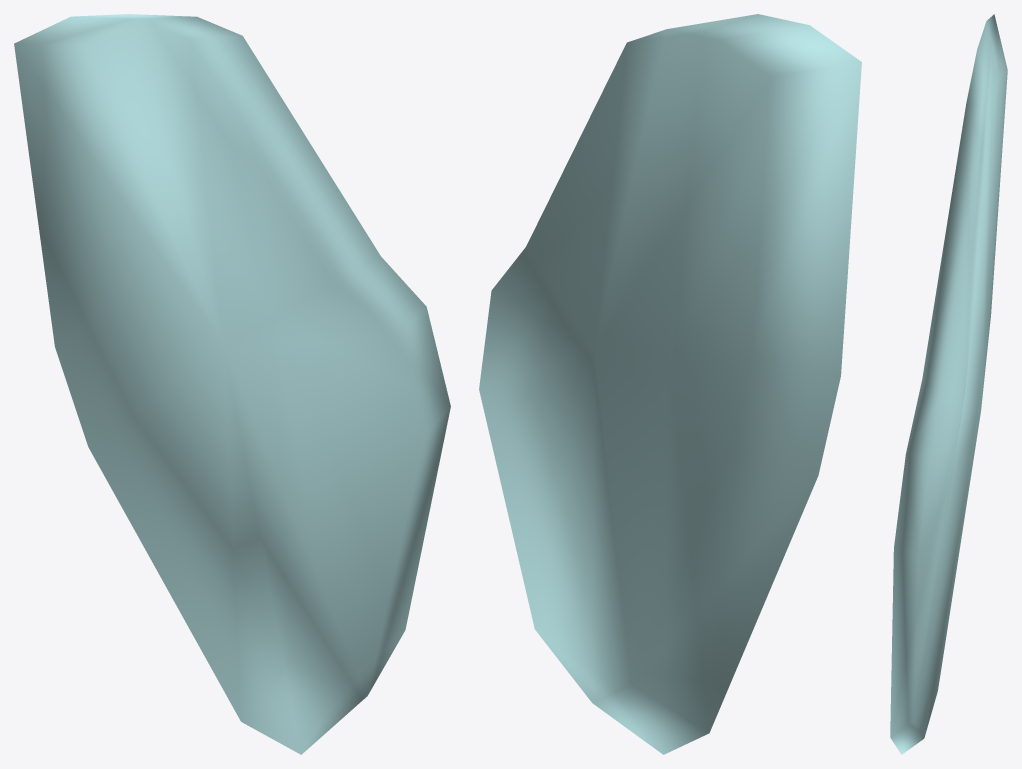
Rendered from Shard_2_R.fbx.
The picture shows the model from 3 angles, left to right: view 1: azimuth 30°, elevation 25°; view 2: azimuth 150°, elevation 25°; view 3: azimuth 270°, elevation 25°; orthographic projection. The views are drawn at different scales.
Parts seen in each view (by area): view 1: Shard_Rounded_2; view 2: Shard_Rounded_2; view 3: Shard_Rounded_2.
Part boxes in pixels (x1,y1,x2,y2): Shard_Rounded_2: (14,14,450,754); Shard_Rounded_2: (479,14,861,754); Shard_Rounded_2: (890,14,1007,754).
Size of the model in its own units: 571 by 1035 by 168.
